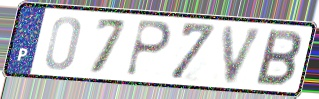0: (43, 15, 84, 72)
7: (171, 20, 218, 83), (91, 17, 129, 76)
B: (252, 27, 304, 89)
P: (123, 18, 174, 80)
V: (221, 24, 267, 87)
